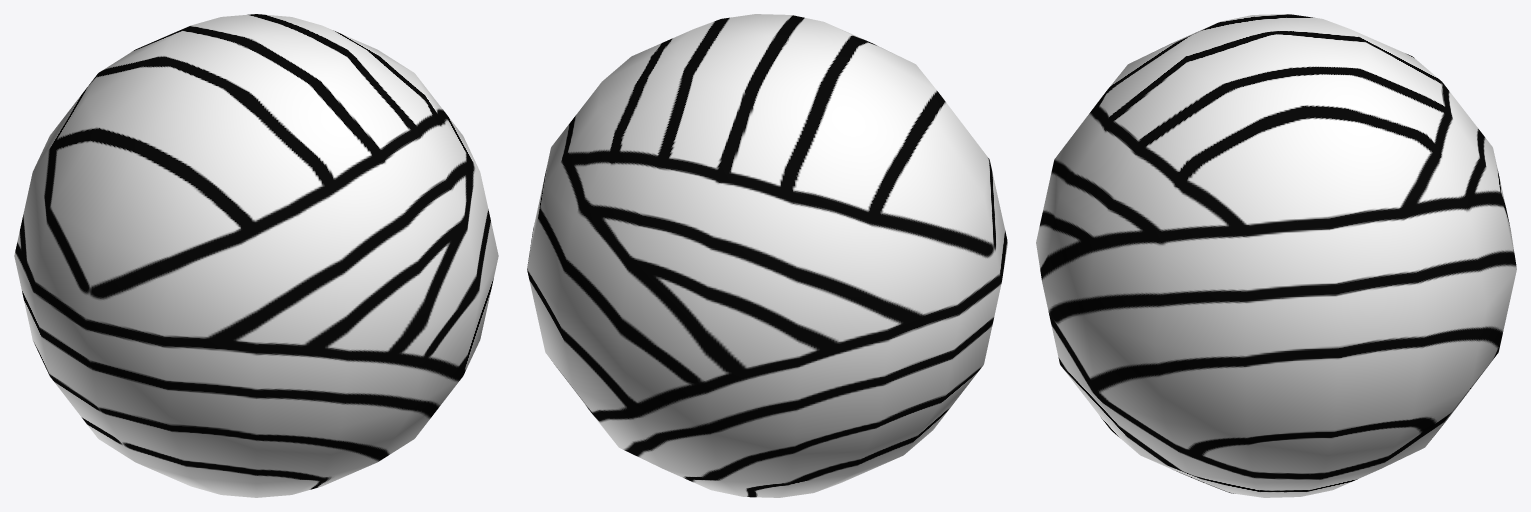
The model's file is Lana.glb.
3 renders of one model, left to right at view 1: azimuth 30°, elevation 25°; view 2: azimuth 150°, elevation 25°; view 3: azimuth 270°, elevation 25°, orthographic.
Parts seen in each view (by area): view 1: Sphere.001; view 2: Sphere.001; view 3: Sphere.001.
Part boxes in pixels (bbox=[...]): Sphere.001: bbox=[14, 14, 498, 497]; Sphere.001: bbox=[527, 14, 1007, 497]; Sphere.001: bbox=[1036, 14, 1516, 497].
Size of the model in its own units: 1.39 by 1.4 by 1.39.
1 material, 1 textured.
